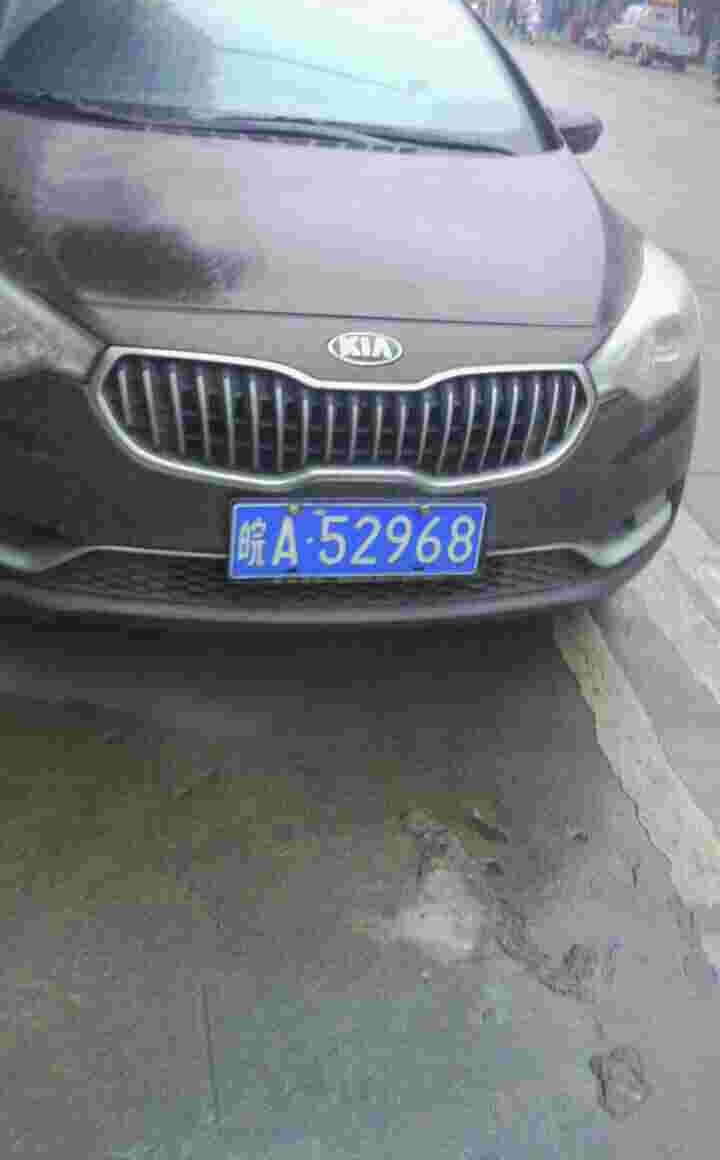license_plate: (230, 509, 496, 584)
